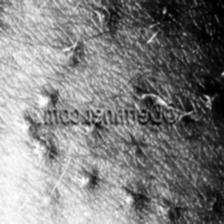Non-Cancerous Skin Condition: (20, 125, 100, 223), (200, 85, 224, 113), (125, 190, 138, 208), (182, 106, 192, 124)
